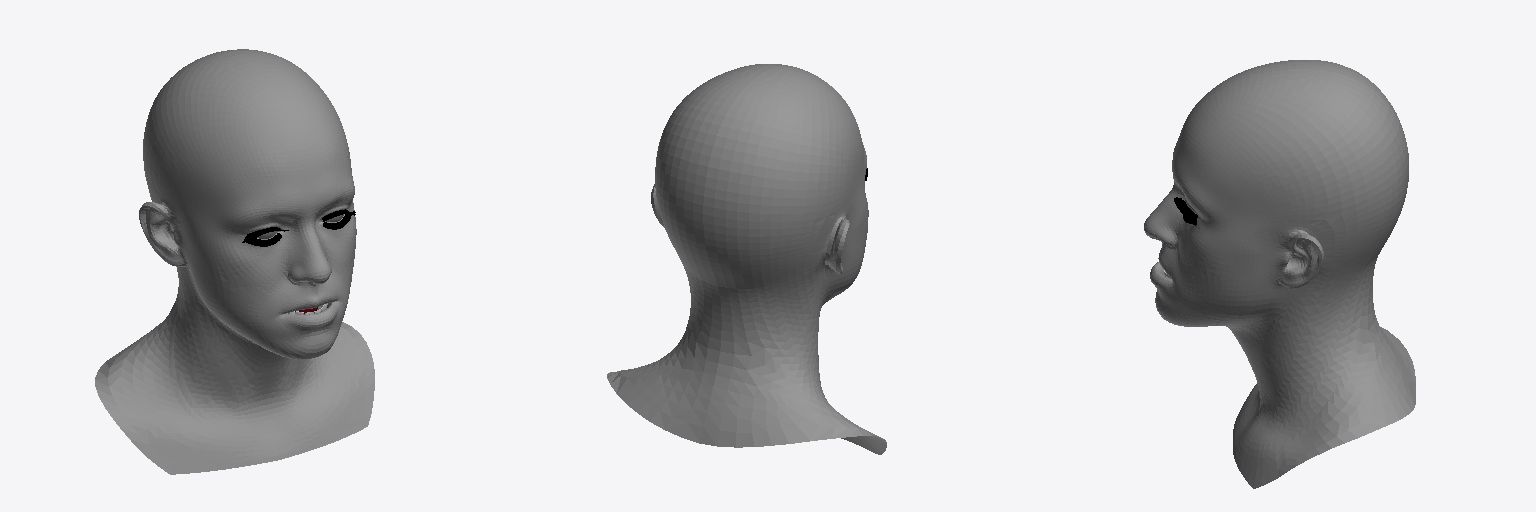
Rendered from jawForward.obj.
3 views of the same model, side by side, from view 1: azimuth 30°, elevation 25°; view 2: azimuth 150°, elevation 25°; view 3: azimuth 270°, elevation 25° (orthographic).
Bounding box in the file's own units: 24.83 × 33.81 × 22.33.